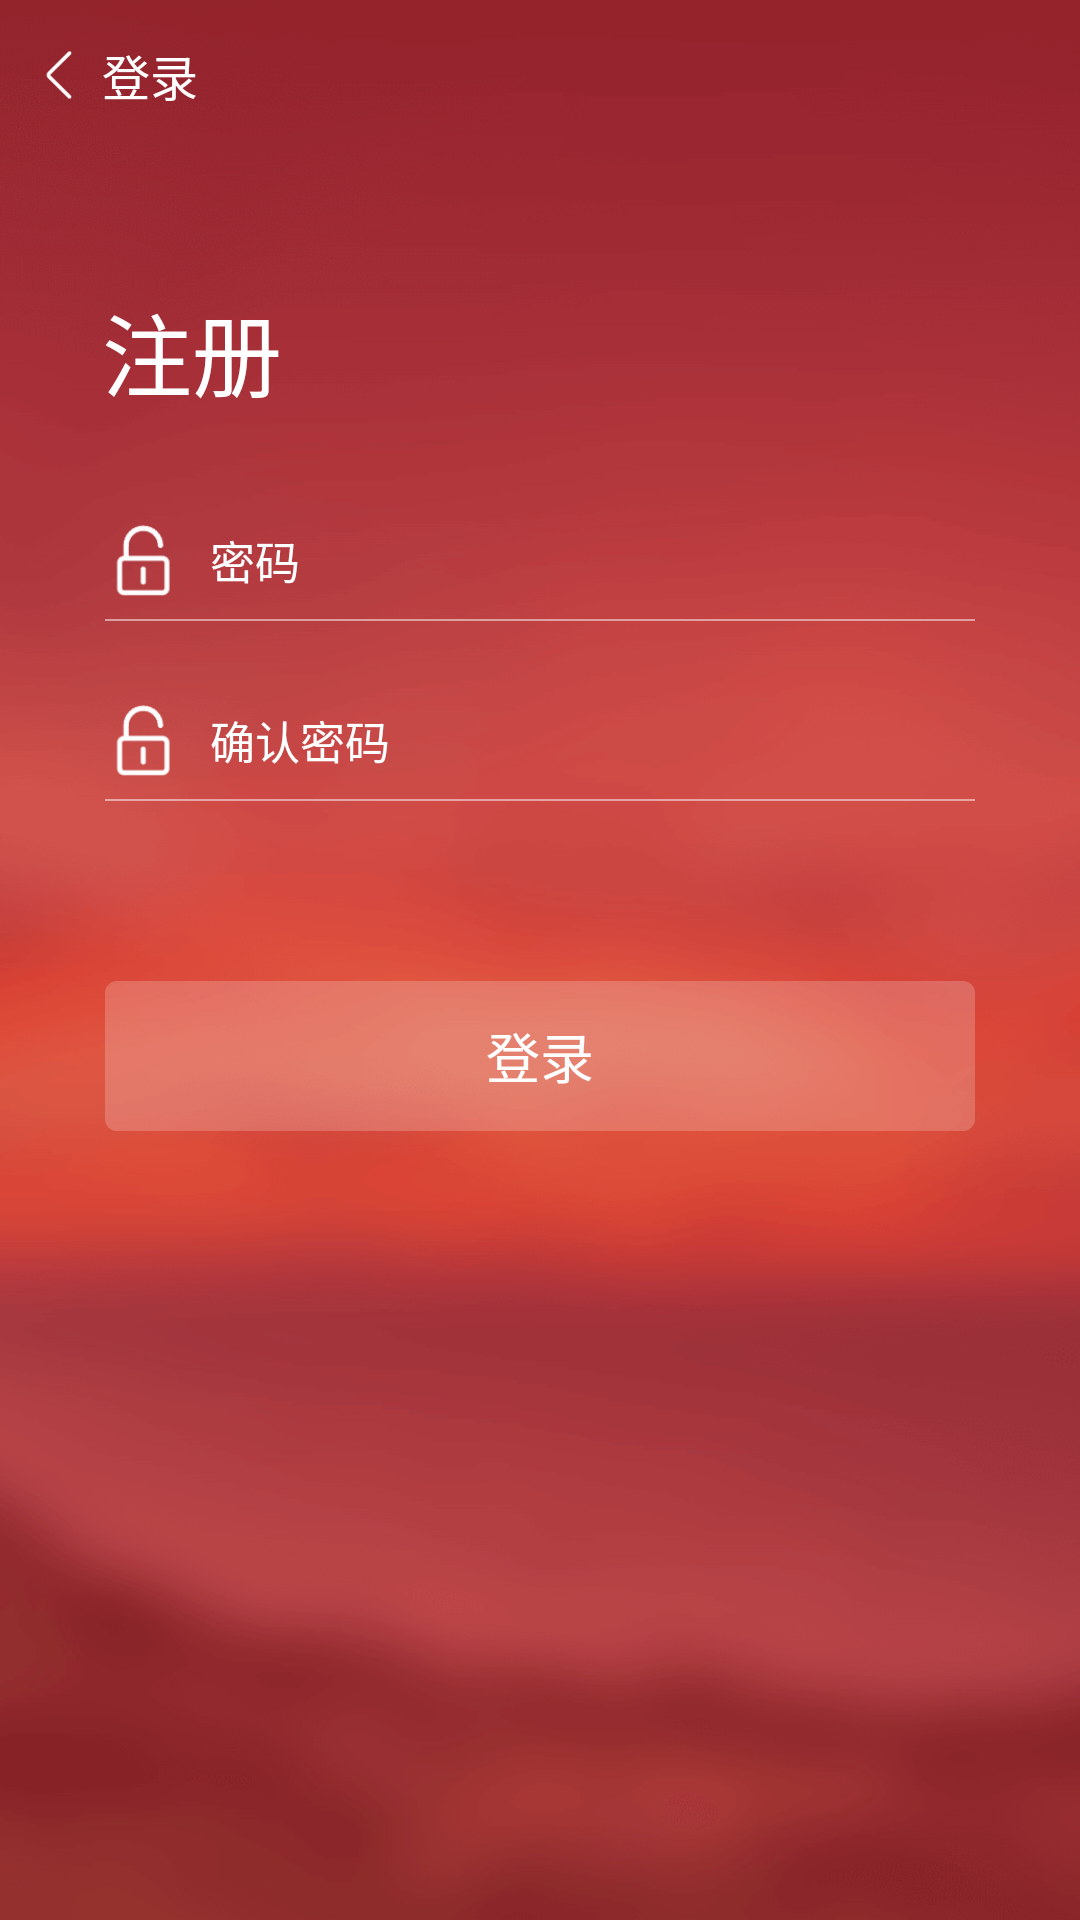

Locate icon controls on the screen. Image size 1080x1920, boxes as [x1=x1, y1=y1, x2=x2, y2=y2].
back: [x1=46, y1=51, x2=72, y2=99]
